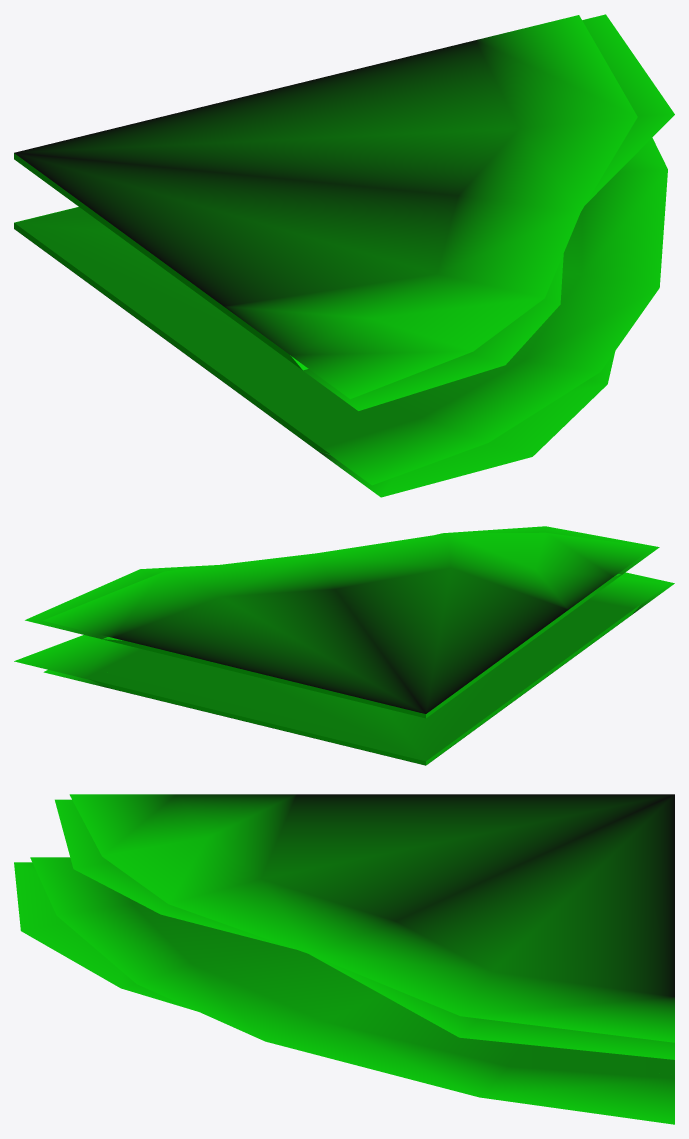
Rendered from DBK_Plywood_Floor_End_A.fbx.
3 renders of one model, top to bottom at view 1: azimuth 30°, elevation 25°; view 2: azimuth 150°, elevation 25°; view 3: azimuth 270°, elevation 25°, orthographic. The views are drawn at different scales.
Visible parts, largest first — view 1: DBK_Plywood_Floor_End_A; view 2: DBK_Plywood_Floor_End_A; view 3: DBK_Plywood_Floor_End_A.
Part boxes in pixels (left/top/right/bottom): DBK_Plywood_Floor_End_A: left=14, top=14, right=674, bottom=497; DBK_Plywood_Floor_End_A: left=14, top=526, right=674, bottom=765; DBK_Plywood_Floor_End_A: left=14, top=794, right=674, bottom=1124.
Size of what is drawn, in the model's own units: 167 by 20 by 175.
